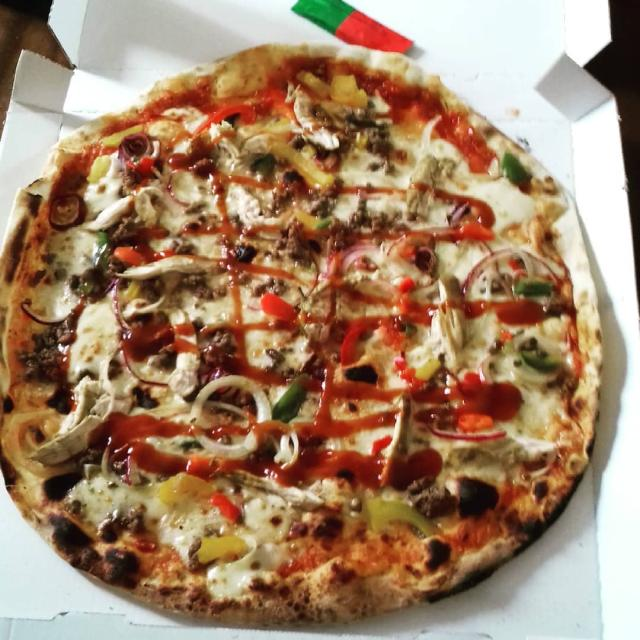pizza: (0, 45, 601, 625)
